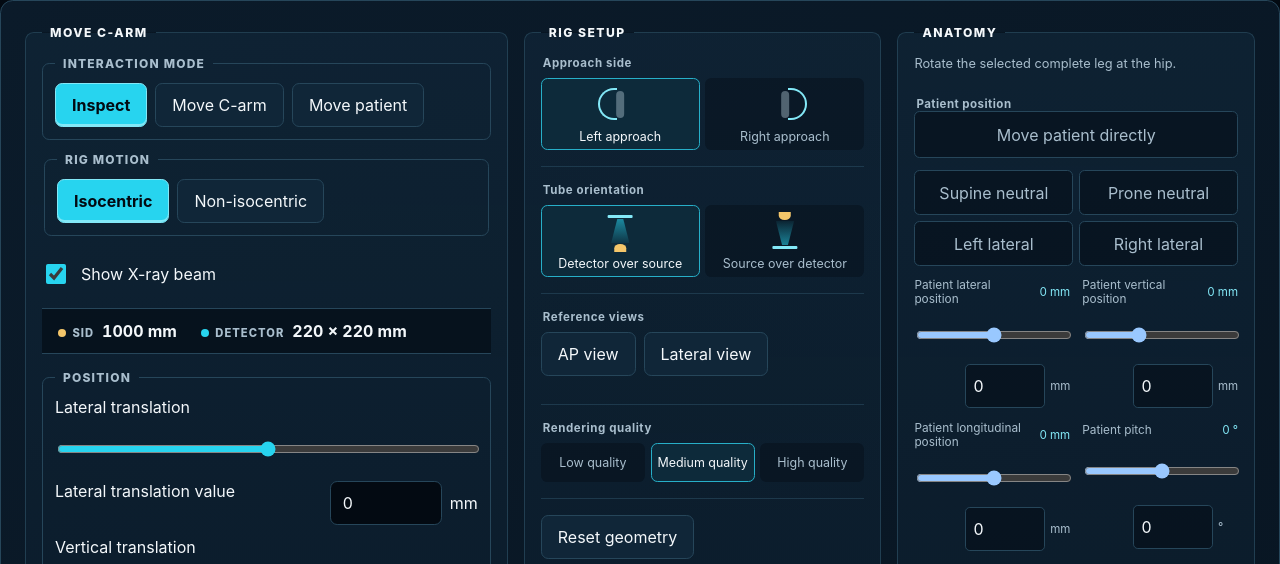
it: CArmControls › uses ten-millimetre Shift snapping and Alt fine translation
The width and height of the screenshot is (1280, 564).
Replace the text in the number field labelled "Lateral translation value" with "14.9" at (386, 503), box [330,481,442,525]
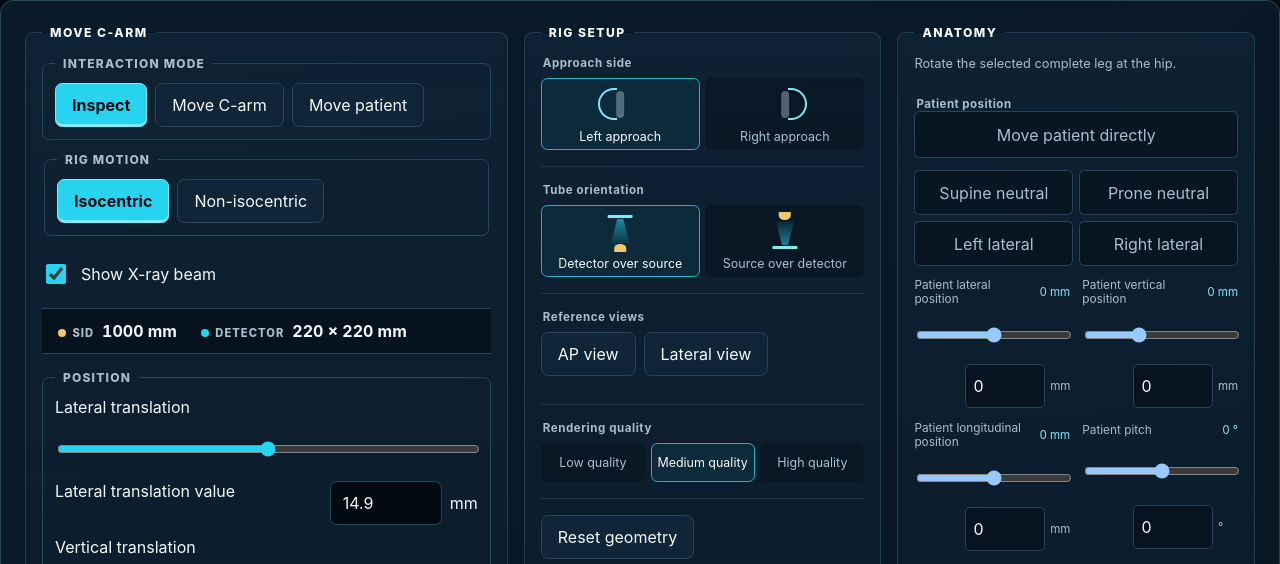
Press ArrowRight in the number field labelled "Lateral translation value", box [330,481,442,525]
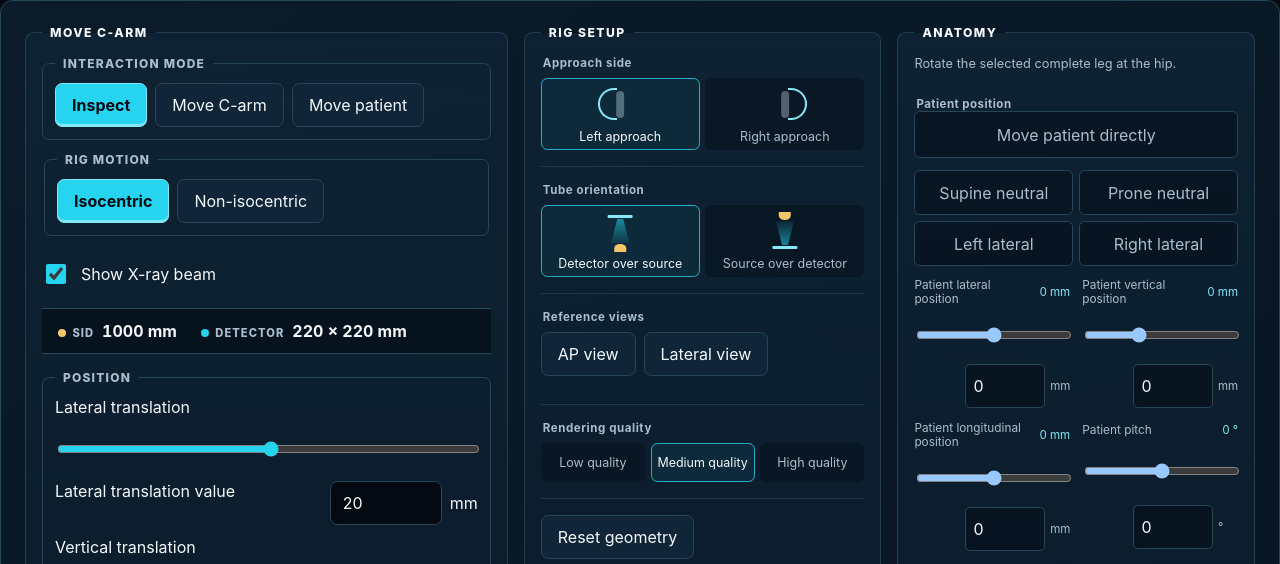
Now the number field labelled "Lateral translation value" holds "20"
Press ArrowRight in the number field labelled "Lateral translation value", box [330,481,442,525]
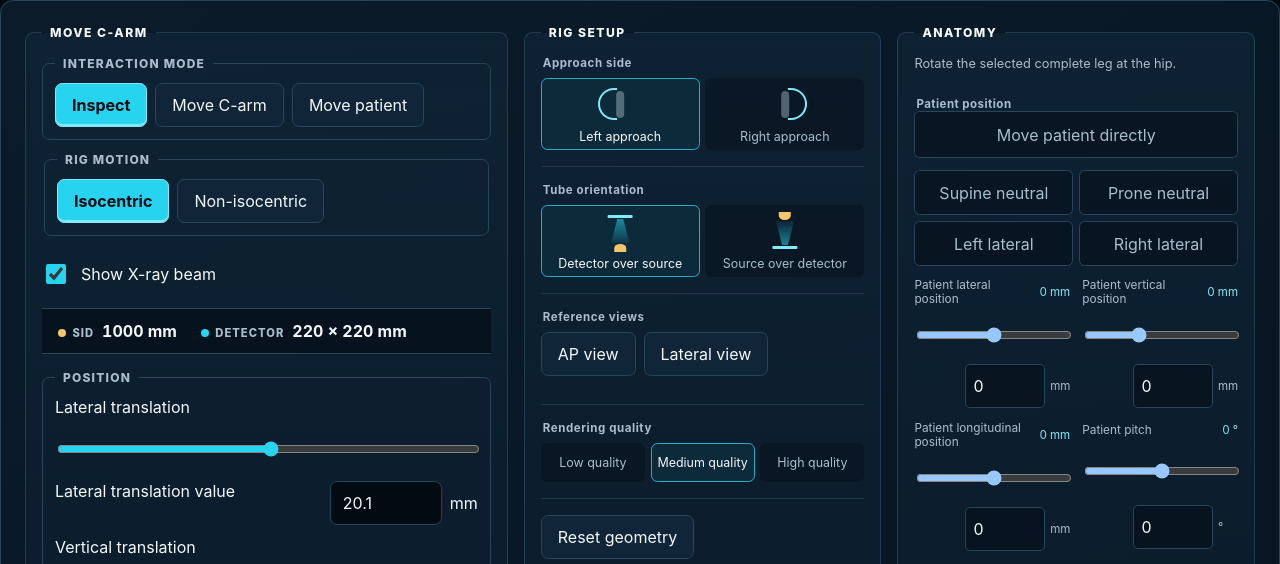
Now the number field labelled "Lateral translation value" holds "20.1", box [330,481,442,525]
